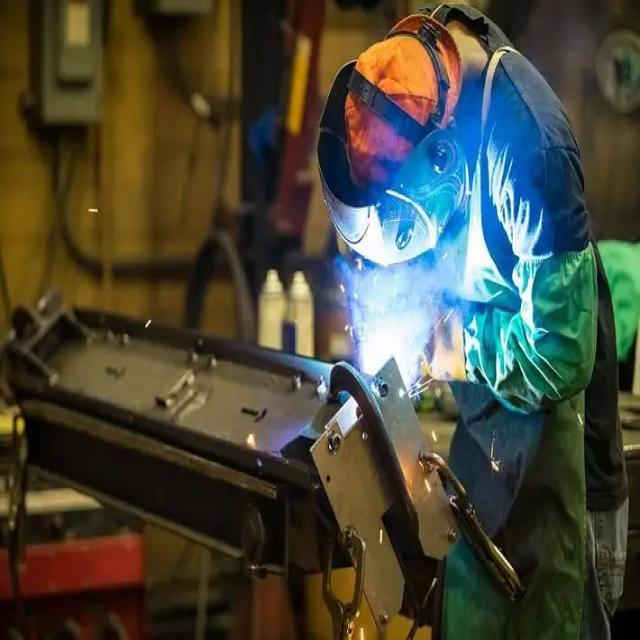with_helmet: (318, 54, 472, 288)
